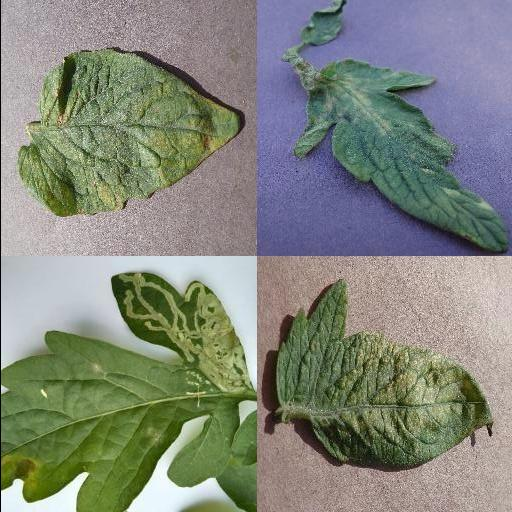Leaf Miner: (0, 271, 256, 512)
Leaf Mold: (295, 60, 511, 252)
Spider Mites: (277, 279, 491, 469), (17, 48, 241, 218)
